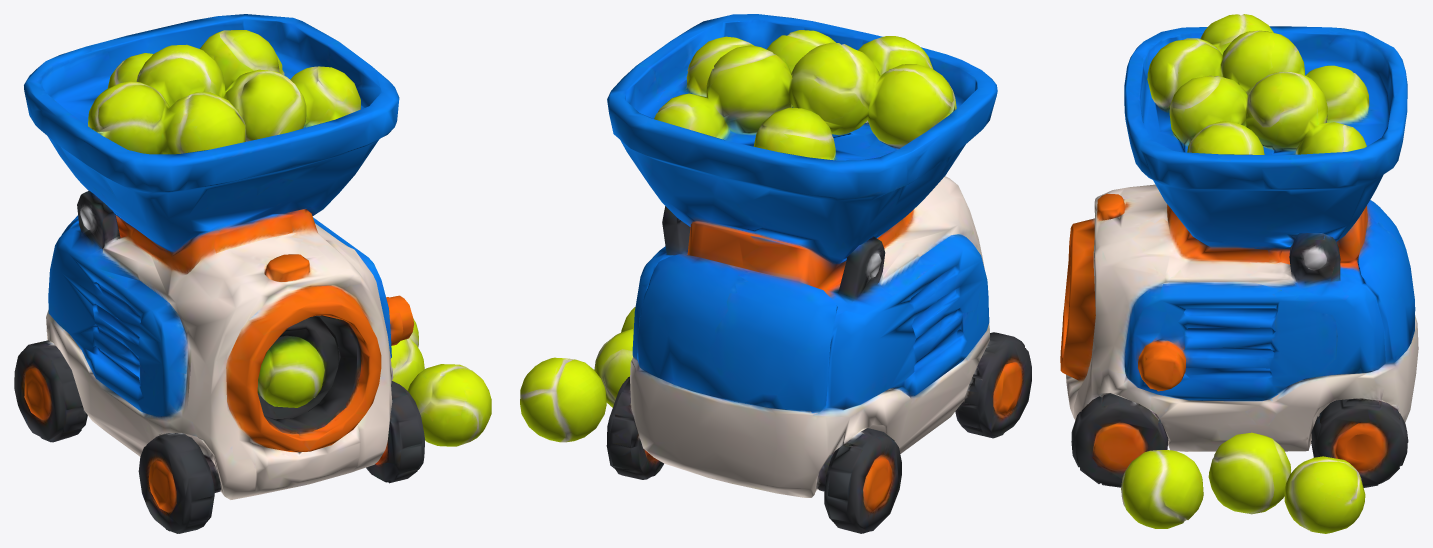
The model's file is ballmachine.glb.
3 views of the same model, side by side, from view 1: azimuth 30°, elevation 25°; view 2: azimuth 150°, elevation 25°; view 3: azimuth 270°, elevation 25° (orthographic). The views are drawn at different scales.
Parts seen in each view (by area): view 1: tripo_node_bdd13494-c0dd-4de1-8dad-8d9373a2282d; view 2: tripo_node_bdd13494-c0dd-4de1-8dad-8d9373a2282d; view 3: tripo_node_bdd13494-c0dd-4de1-8dad-8d9373a2282d.
Boxes of the visible parts, x1=… form: tripo_node_bdd13494-c0dd-4de1-8dad-8d9373a2282d: x1=14, y1=14, x2=491, y2=533; tripo_node_bdd13494-c0dd-4de1-8dad-8d9373a2282d: x1=520, y1=14, x2=1031, y2=533; tripo_node_bdd13494-c0dd-4de1-8dad-8d9373a2282d: x1=1060, y1=14, x2=1418, y2=533.
Size of the model in its own units: 0.9782 by 0.9995 by 0.8338.
Materials: 1 (1 with a texture image).
